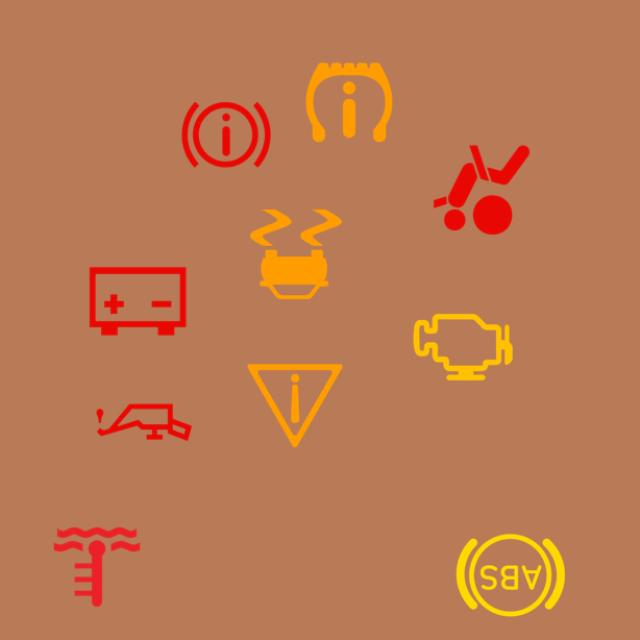Anti Lock Braking System: (451, 516, 570, 635)
Braking System Issue: (167, 75, 286, 194)
Charging System Issue: (78, 242, 197, 361)
Check Engine: (403, 288, 522, 407)
Electronic Stability Problem -ESP-: (237, 195, 356, 314)
Engine Overheating Warning Light: (37, 508, 156, 626)
Low Engine Oil Warning Light: (84, 362, 204, 482)
Low Tire Pressure Warning Light: (290, 42, 408, 162)
Master warning light: (236, 346, 354, 465)
SRS-Airbag: (422, 130, 541, 249)
